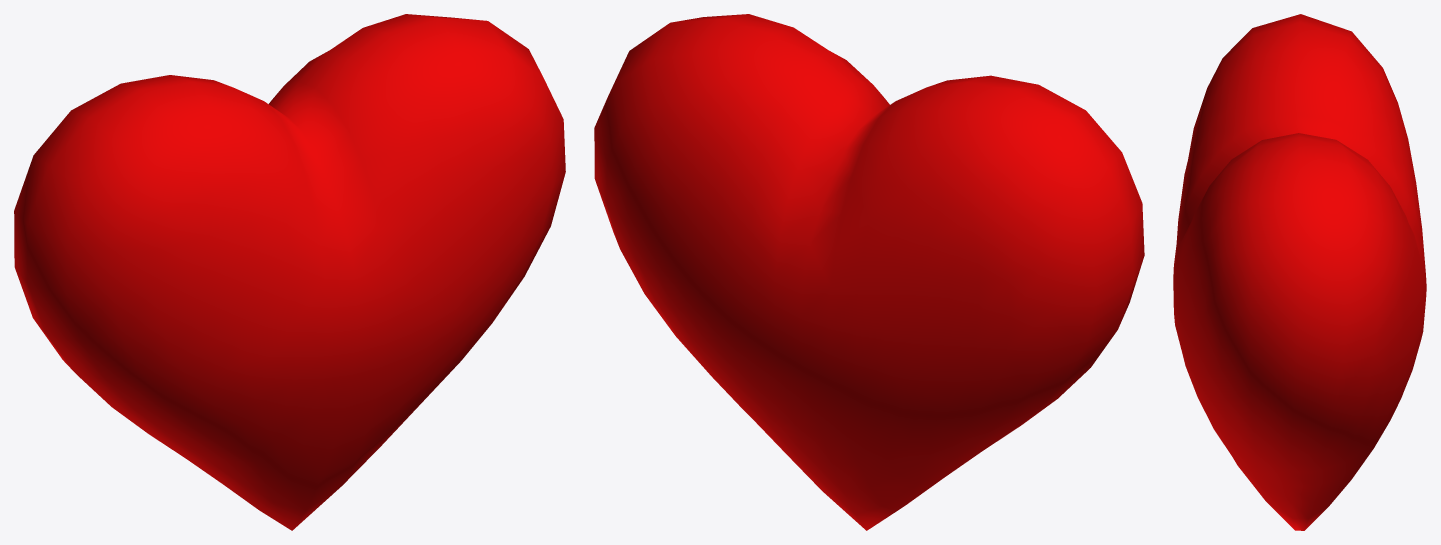
File: Heart_LowPoly.fbx
3 renders of one model, left to right at view 1: azimuth 30°, elevation 25°; view 2: azimuth 150°, elevation 25°; view 3: azimuth 270°, elevation 25°, orthographic. The views are drawn at different scales.
Parts seen in each view (by area): view 1: Heart_01; view 2: Heart_01; view 3: Heart_01.
Part boxes in pixels (x1,y1,x2,y2): Heart_01: (14,14,565,530); Heart_01: (594,14,1144,530); Heart_01: (1173,14,1426,530).
Size of the model in its own units: 18.83 by 16.22 by 8.44.
